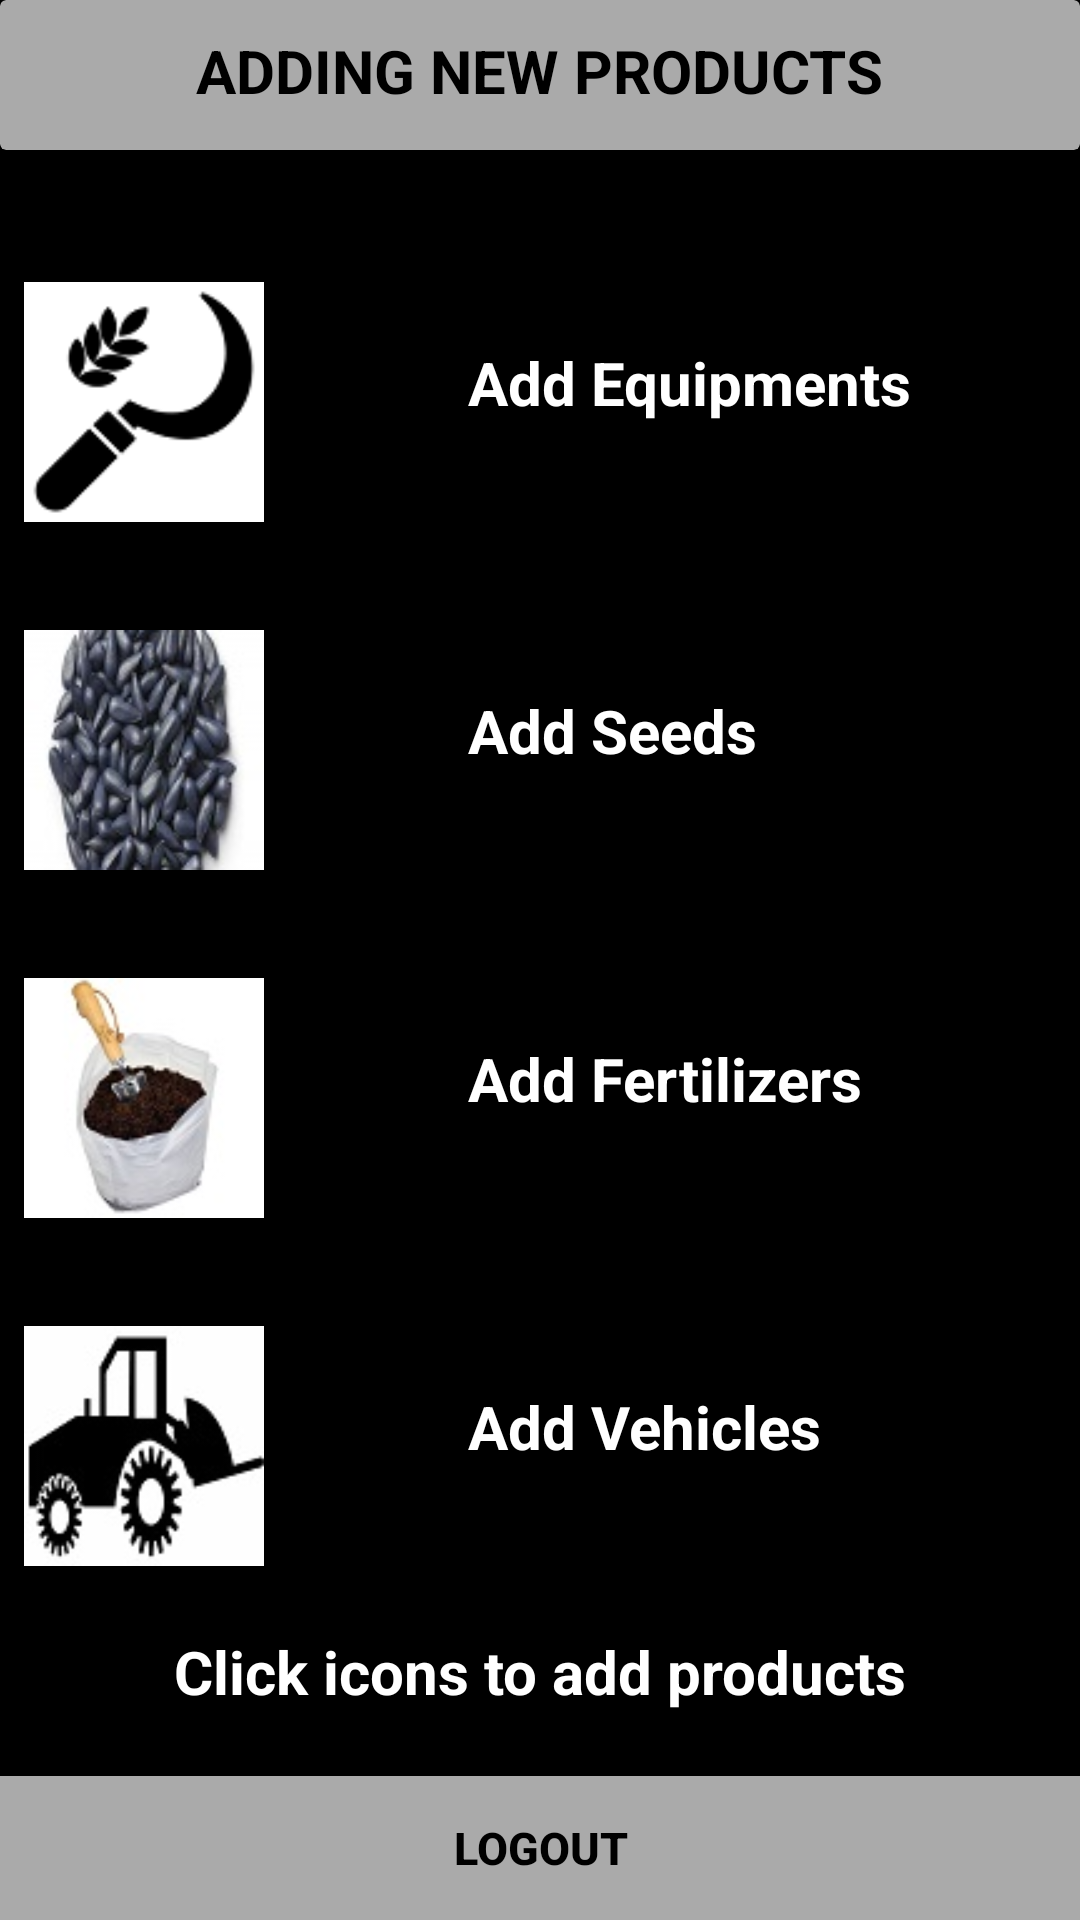

Named icons in this screenshot (1080x1920) and their centers, (x=x, y=y):
fatiliser: (x=144, y=1098)
seeds: (x=144, y=750)
tactor: (x=144, y=1446)
